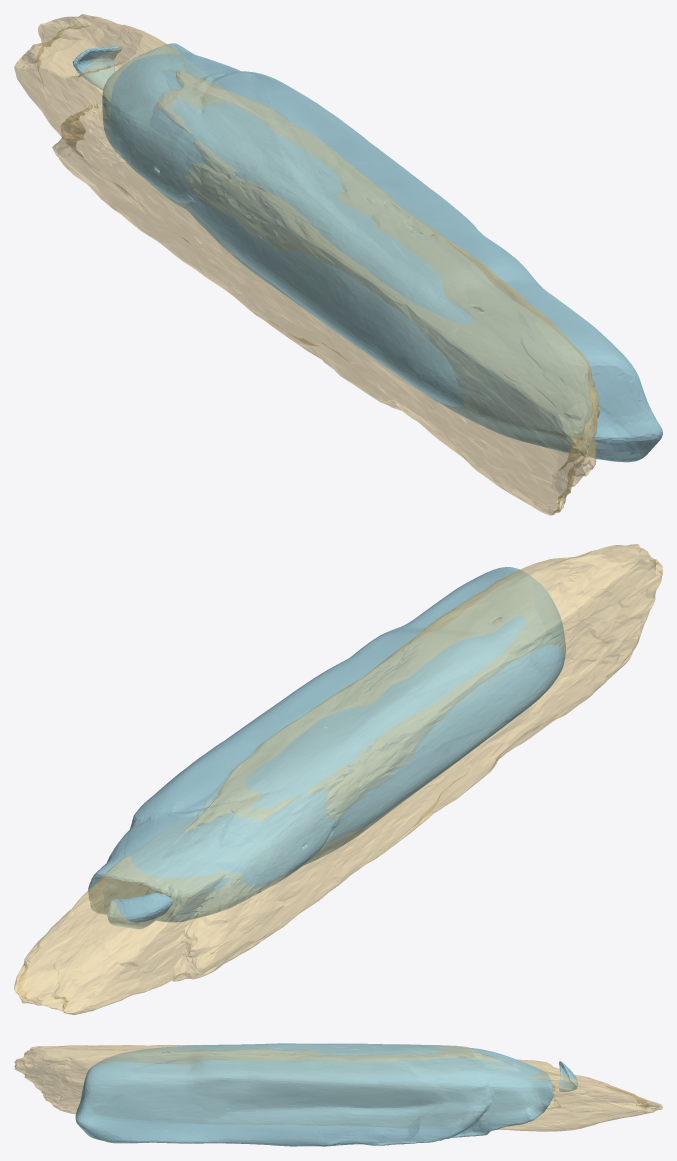
Rendered from overlay-7169801.glb.
3 renders of one model, top to bottom at view 1: azimuth 30°, elevation 25°; view 2: azimuth 150°, elevation 25°; view 3: azimuth 270°, elevation 25°, orthographic. The views are drawn at different scales.
Visible parts, largest first — view 1: admitted_hypothesis_blue, true_scan_amber; view 2: true_scan_amber, admitted_hypothesis_blue; view 3: admitted_hypothesis_blue, true_scan_amber.
Part boxes in pixels (bbox=[...]): admitted_hypothesis_blue: bbox=[72, 43, 662, 462]; true_scan_amber: bbox=[14, 14, 600, 515]; true_scan_amber: bbox=[14, 544, 662, 1014]; admitted_hypothesis_blue: bbox=[88, 567, 565, 929]; admitted_hypothesis_blue: bbox=[75, 1043, 577, 1146]; true_scan_amber: bbox=[14, 1043, 662, 1131].
Size of the model in its own units: 0.1921 by 0.155 by 1.17.
